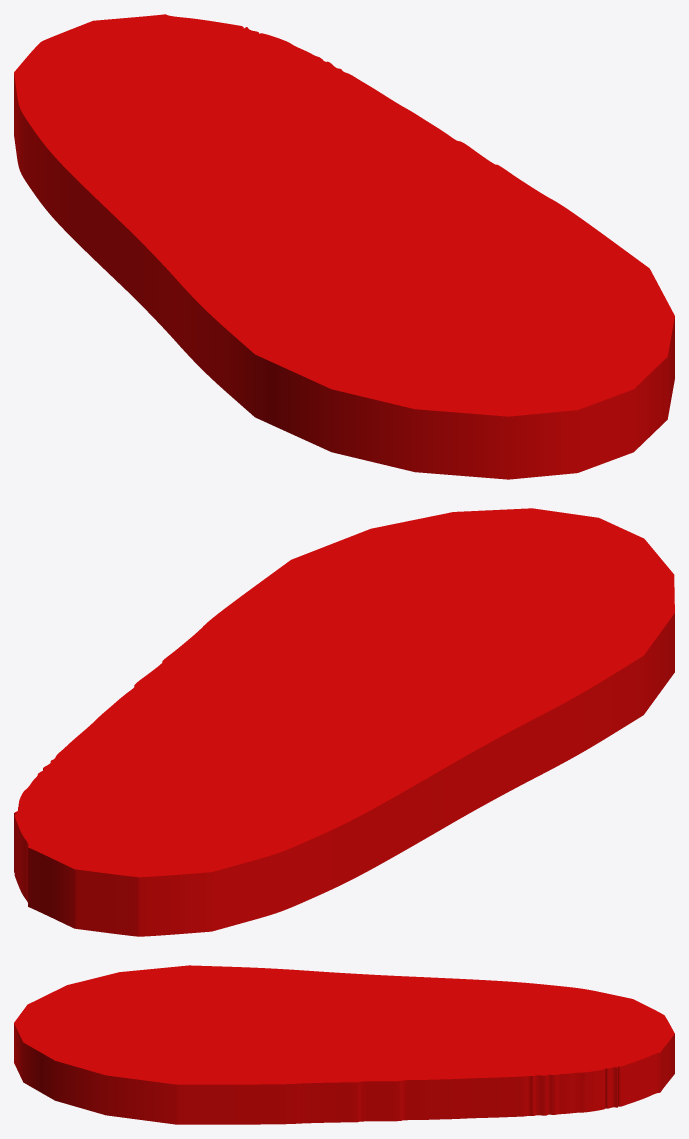
Rendered from FlatFootprint.fbx.
3 views of the same model, one above another, from view 1: azimuth 30°, elevation 25°; view 2: azimuth 150°, elevation 25°; view 3: azimuth 270°, elevation 25° (orthographic). The views are drawn at different scales.
Visible parts, largest first — view 1: Curve; view 2: Curve; view 3: Curve.
Boxes of the visible parts, box(x1,y1,x2,y2) form: Curve: box(14, 14, 674, 479); Curve: box(14, 508, 674, 936); Curve: box(14, 965, 674, 1124).
Bounding box in the file's own units: 12.77 × 2 × 29.95.
